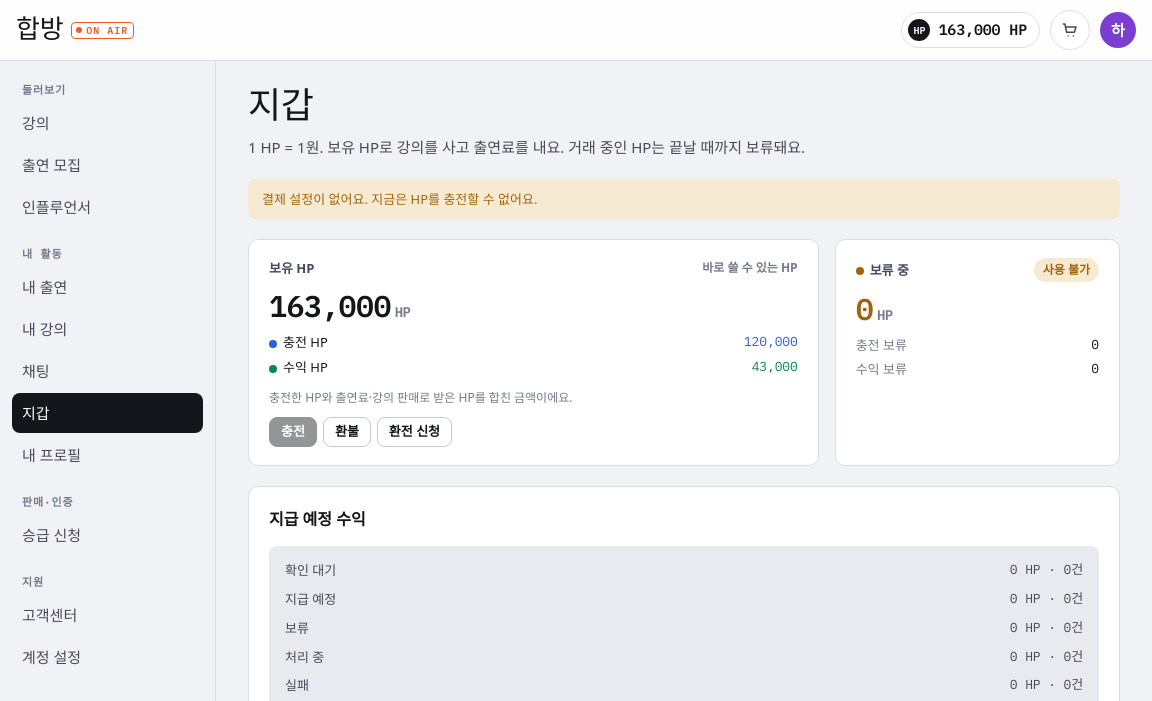
Test: 환전 진입점 › 인플루언서는 지갑에서 환전 신청 버튼을 보고 누르면 신청 화면으로 간다
Step 1. Click the button "환전 신청" → click(414, 432), box [377, 417, 452, 447]
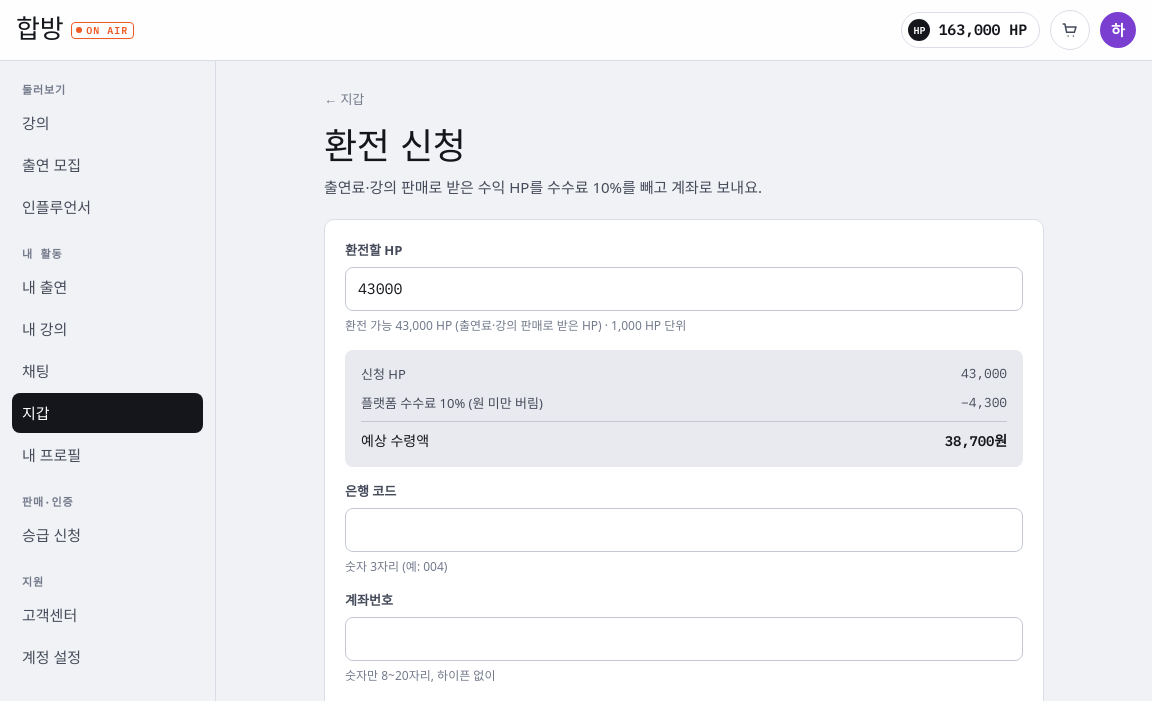
Expected: the heading "환전 신청" is shown, [324, 131, 466, 167]
